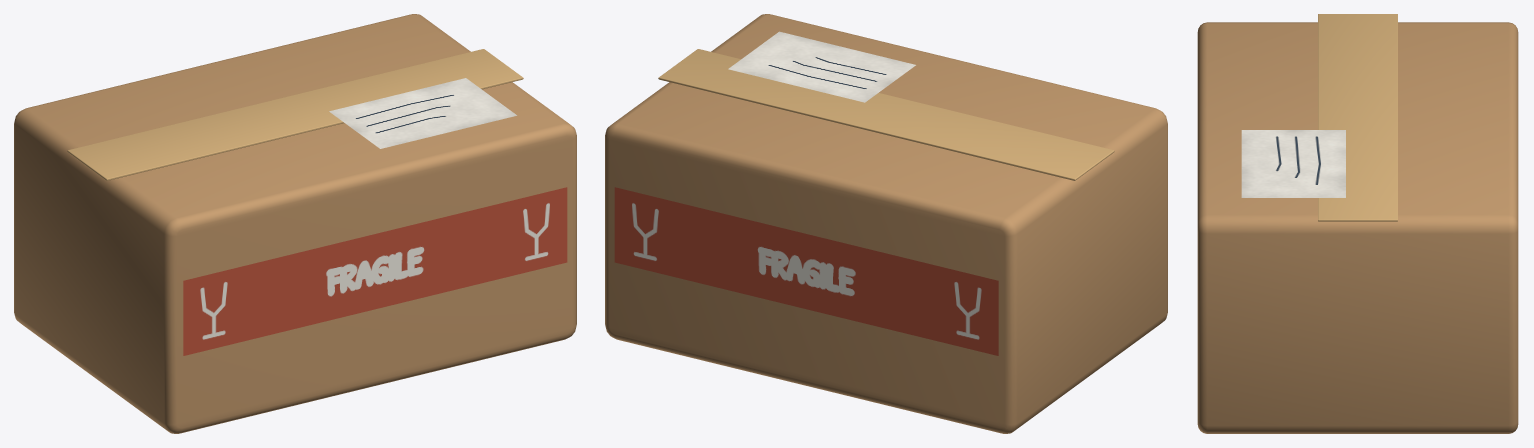
File: parcel.glb
3 views of the same model, side by side, from view 1: azimuth 30°, elevation 25°; view 2: azimuth 150°, elevation 25°; view 3: azimuth 270°, elevation 25° (orthographic).
Visible parts, largest first — view 1: Box, FragileFront, PackTape, Label; view 2: Box, FragileBack, PackTape, Label; view 3: Box, PackTape, Label.
Boxes of the visible parts, <box> form: Box: <box>14,14,576,433</box>; FragileFront: <box>183,187,567,355</box>; PackTape: <box>67,49,523,180</box>; Label: <box>329,78,516,148</box>; Box: <box>605,14,1167,433</box>; FragileBack: <box>614,187,998,355</box>; PackTape: <box>658,49,1114,180</box>; Label: <box>728,31,915,102</box>; Box: <box>1197,22,1518,433</box>; PackTape: <box>1318,14,1397,221</box>; Label: <box>1241,130,1345,197</box>.
Bounding box in the file's own units: 0.304 × 0.1518 × 0.2016.
5 materials, 2 textured.
